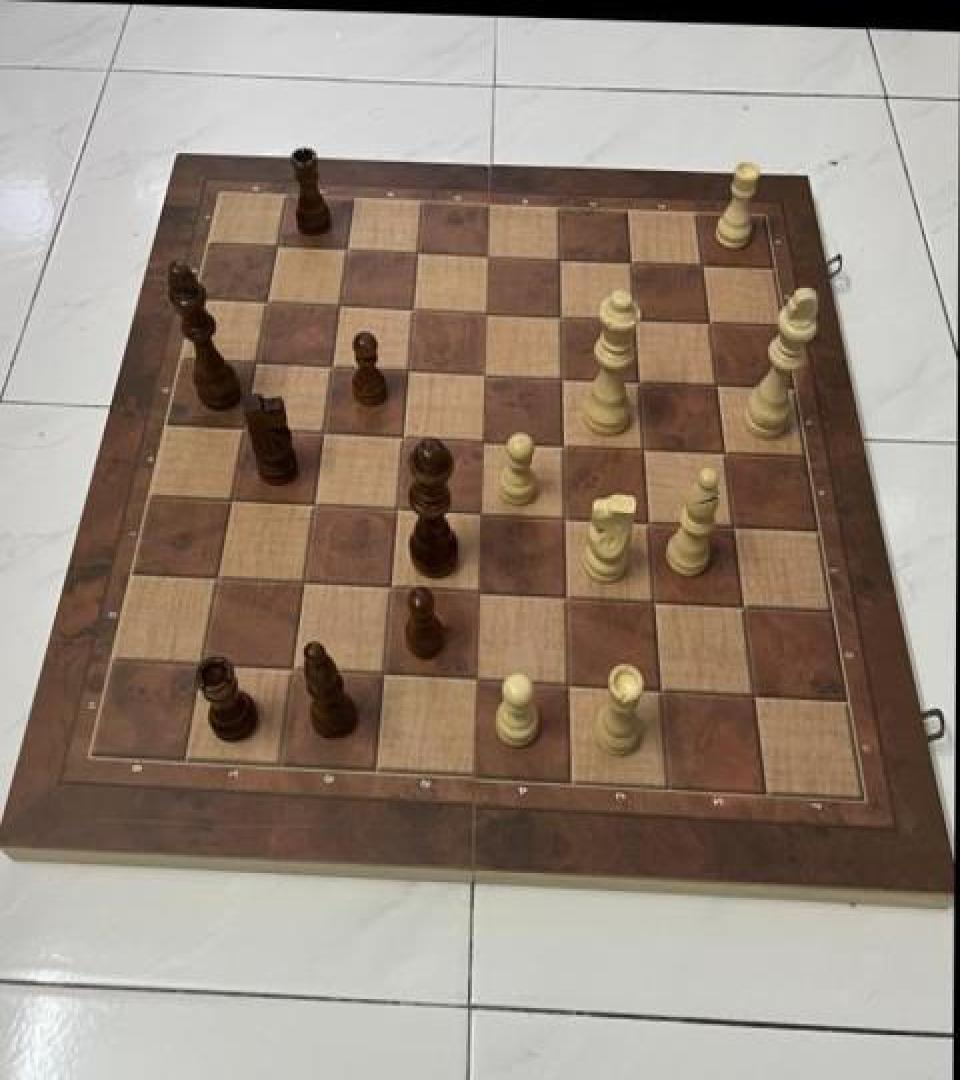xcorner: (460, 571, 492, 608), (637, 581, 669, 618), (366, 653, 398, 690), (642, 669, 674, 706), (261, 230, 293, 266), (331, 232, 363, 268), (402, 235, 434, 271), (472, 238, 504, 274), (543, 241, 575, 277), (615, 243, 647, 279), (687, 246, 719, 282), (251, 284, 283, 320), (324, 288, 356, 324), (397, 290, 429, 326), (470, 294, 502, 330), (544, 297, 576, 333), (619, 300, 651, 336), (693, 302, 725, 338), (240, 344, 272, 380), (315, 348, 347, 384), (392, 351, 424, 387), (468, 354, 500, 390), (545, 358, 577, 394), (622, 361, 654, 397), (700, 364, 732, 400), (228, 410, 260, 446), (307, 413, 339, 449), (386, 418, 418, 454), (466, 421, 498, 457), (546, 424, 578, 460), (627, 428, 659, 464), (708, 432, 740, 468), (215, 480, 247, 516), (297, 485, 329, 521), (380, 490, 412, 526), (463, 493, 495, 529), (547, 497, 579, 533), (632, 502, 664, 538), (716, 505, 748, 541), (200, 558, 232, 594), (286, 562, 318, 598), (373, 567, 405, 603), (548, 576, 580, 612), (726, 586, 758, 622), (184, 644, 216, 680), (275, 648, 307, 684), (457, 658, 489, 694), (549, 664, 581, 700), (736, 674, 768, 710)
